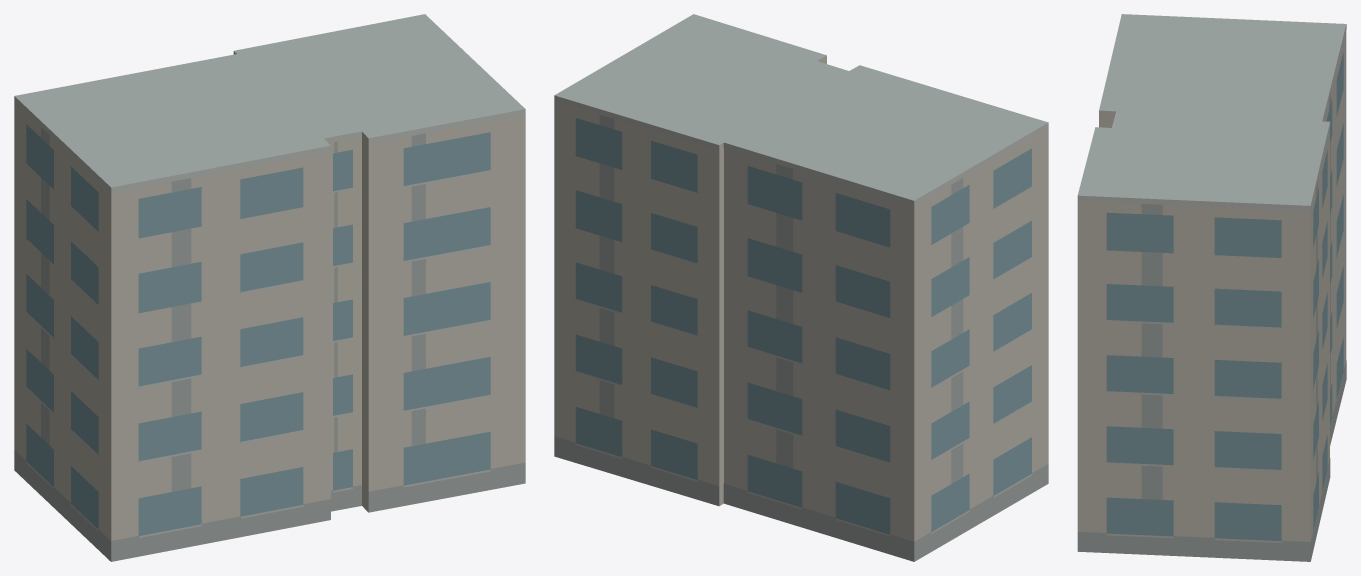
Rendered from survey-upis-32927749.glb.
3 renders of one model, left to right at view 1: azimuth 30°, elevation 25°; view 2: azimuth 150°, elevation 25°; view 3: azimuth 270°, elevation 25°, orthographic. The views are drawn at different scales.
Parts seen in each view (by area): view 1: survey-upis-32927749.tmp; view 2: survey-upis-32927749.tmp; view 3: survey-upis-32927749.tmp.
Part boxes in pixels (x1=…): survey-upis-32927749.tmp: x1=14, y1=14, x2=525, y2=561; survey-upis-32927749.tmp: x1=554, y1=14, x2=1048, y2=561; survey-upis-32927749.tmp: x1=1077, y1=14, x2=1346, y2=561.
Size of the model in its own units: 18.5 by 16 by 10.96.
